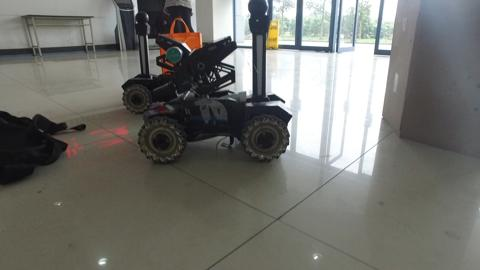chariot: (135, 1, 304, 160)
